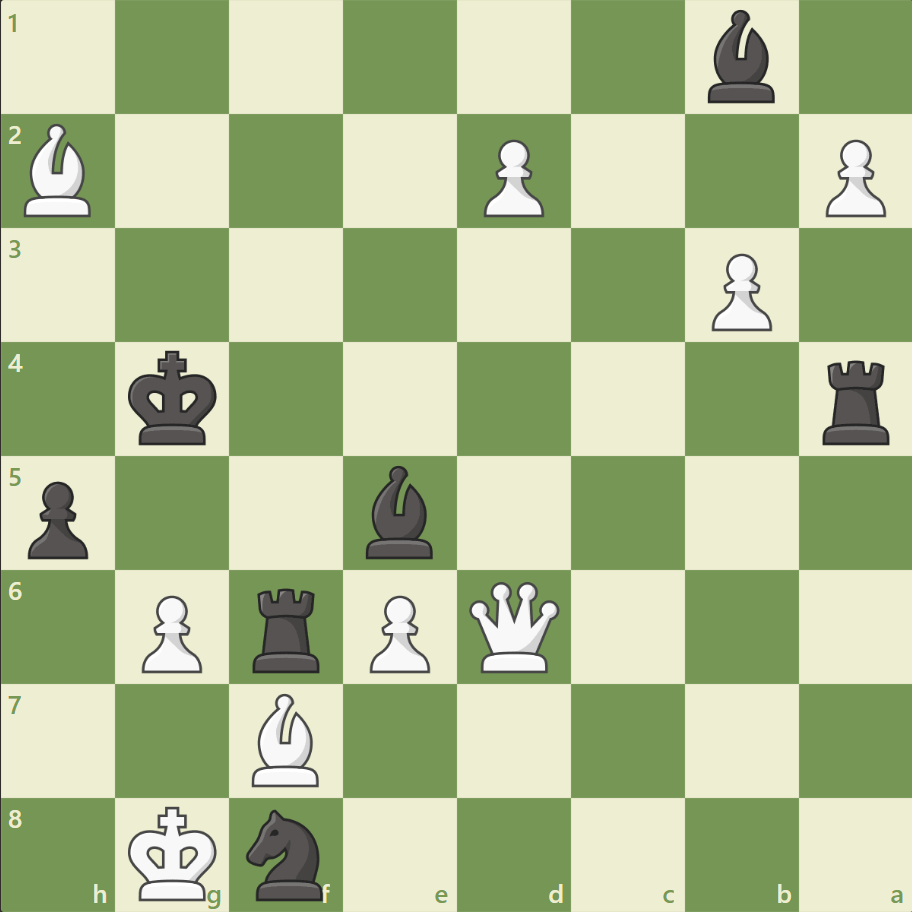B: (244, 687, 328, 790), (17, 120, 101, 222)
K: (124, 798, 224, 906)
P: (133, 586, 208, 677), (701, 246, 776, 337), (474, 132, 549, 223), (361, 586, 435, 677), (815, 132, 889, 223)
Q: (464, 576, 563, 676)
b: (358, 460, 442, 563), (698, 6, 782, 109)
k: (124, 344, 224, 452)
n: (238, 802, 335, 904)
p: (20, 473, 95, 564)
r: (246, 579, 329, 676), (814, 352, 897, 449)
